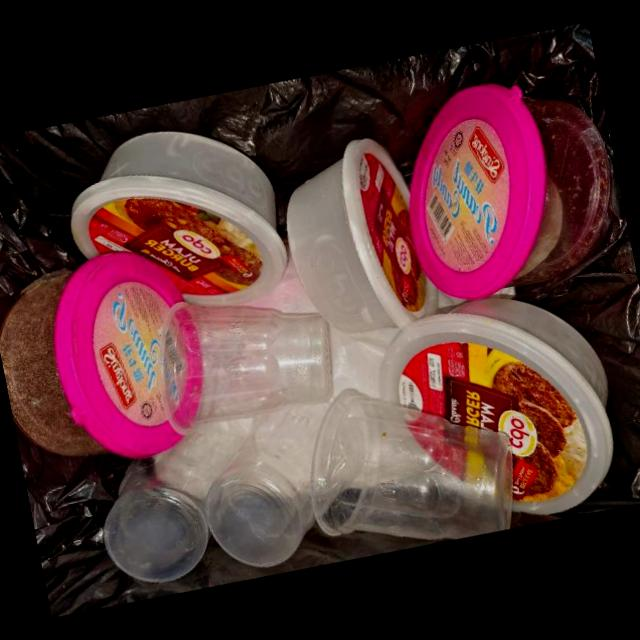hop_nhua: (380, 298, 614, 516), (409, 84, 611, 301), (0, 253, 204, 461), (70, 132, 290, 308), (310, 389, 517, 540), (287, 139, 439, 335), (103, 419, 245, 583), (164, 303, 333, 436), (203, 403, 328, 568)
